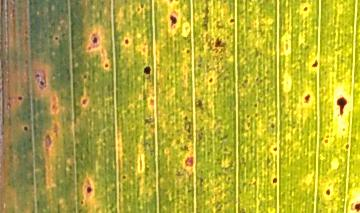tarspot: (334, 95, 348, 115), (166, 13, 179, 29), (142, 62, 153, 79), (83, 183, 95, 195), (322, 186, 334, 198), (310, 58, 321, 71), (89, 34, 100, 46), (122, 36, 132, 49), (301, 92, 311, 104), (301, 3, 310, 16), (51, 34, 62, 44), (227, 15, 236, 27), (269, 120, 277, 133), (15, 93, 25, 103), (271, 145, 280, 156), (79, 97, 90, 106), (77, 198, 86, 209), (38, 78, 46, 90), (206, 76, 215, 86), (271, 175, 279, 186), (353, 201, 360, 213), (119, 173, 129, 181), (343, 142, 351, 152), (22, 123, 29, 134), (184, 47, 191, 58), (102, 61, 109, 71)
